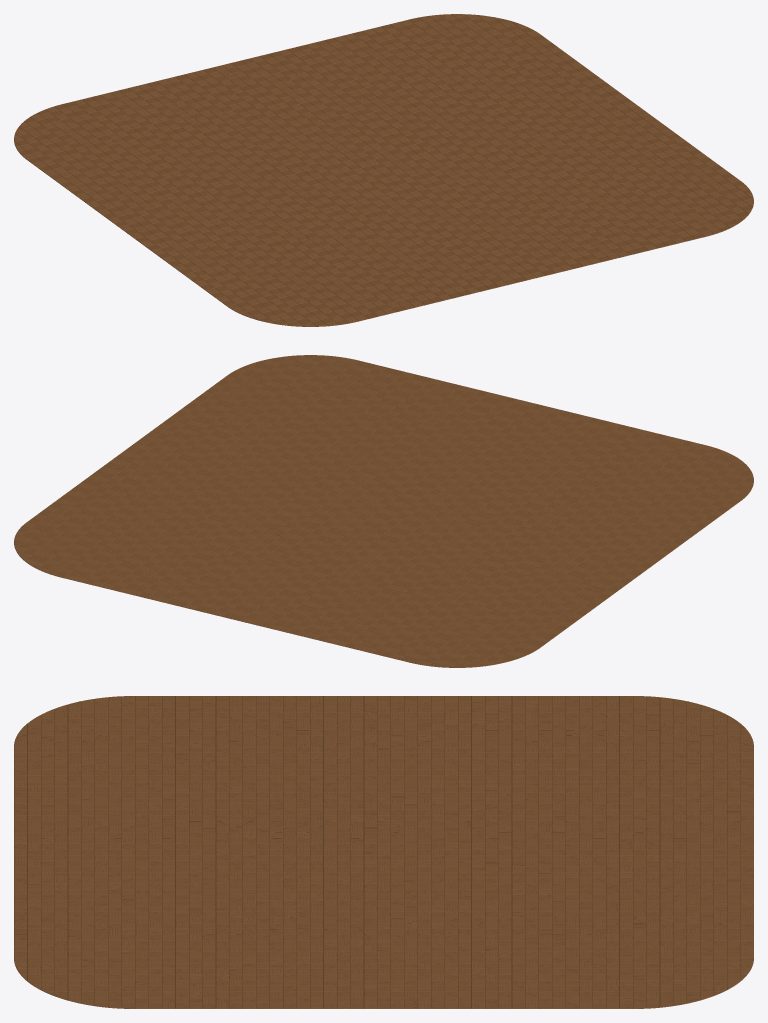
File: Wood_Floor_Whole.glb
The picture shows the model from 3 angles, top to bottom: view 1: azimuth 30°, elevation 25°; view 2: azimuth 150°, elevation 25°; view 3: azimuth 270°, elevation 25°; orthographic projection. The views are drawn at different scales.
Parts seen in each view (by area): view 1: Wood_Floor_Whole; view 2: Wood_Floor_Whole; view 3: Wood_Floor_Whole.
Part boxes in pixels (<box>): Wood_Floor_Whole: <box>14,14,753,326</box>; Wood_Floor_Whole: <box>14,355,753,667</box>; Wood_Floor_Whole: <box>14,696,753,1008</box>.
Bounding box in the file's own units: 18.95 × 0.012 × 18.95.
